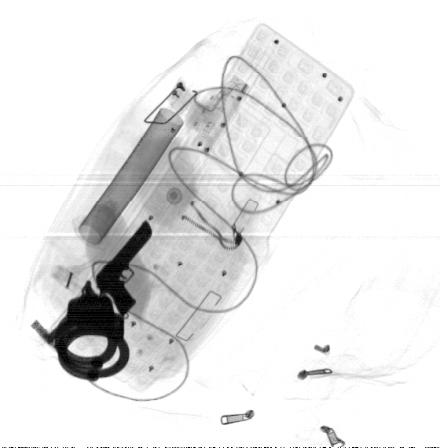Gun: (94, 217, 154, 316)
HandCuffs: (54, 282, 131, 381)
